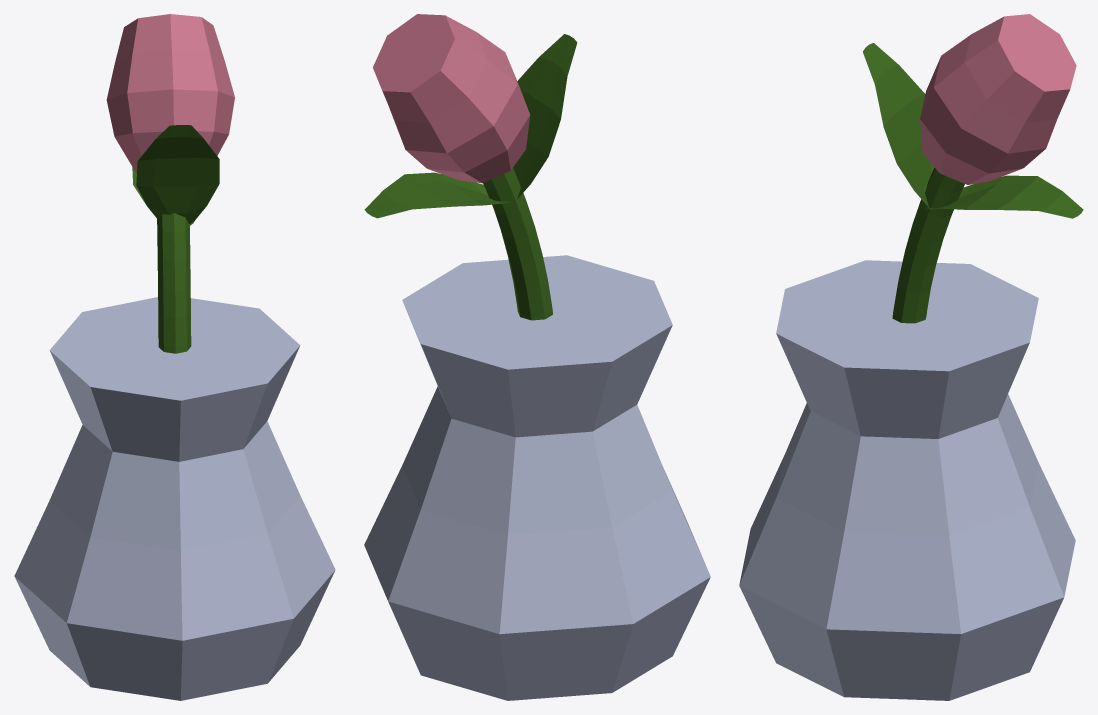
Rendered from Flowerpot.fbx.
The picture shows the model from 3 angles, left to right: view 1: azimuth 30°, elevation 25°; view 2: azimuth 150°, elevation 25°; view 3: azimuth 270°, elevation 25°; orthographic projection. The views are drawn at different scales.
Visible parts, largest first — view 1: Cylinder.028, Plane.001; view 2: Cylinder.028, Plane.001; view 3: Cylinder.028, Plane.001.
Boxes of the visible parts, box(x1,y1,x2,y2) form: Cylinder.028: box(14, 297, 335, 700); Plane.001: box(106, 14, 234, 353); Cylinder.028: box(364, 255, 710, 700); Plane.001: box(364, 14, 577, 320); Cylinder.028: box(739, 260, 1075, 700); Plane.001: box(863, 14, 1083, 323).
Size of the model in its own units: 34.17 by 34.99 by 72.86.
